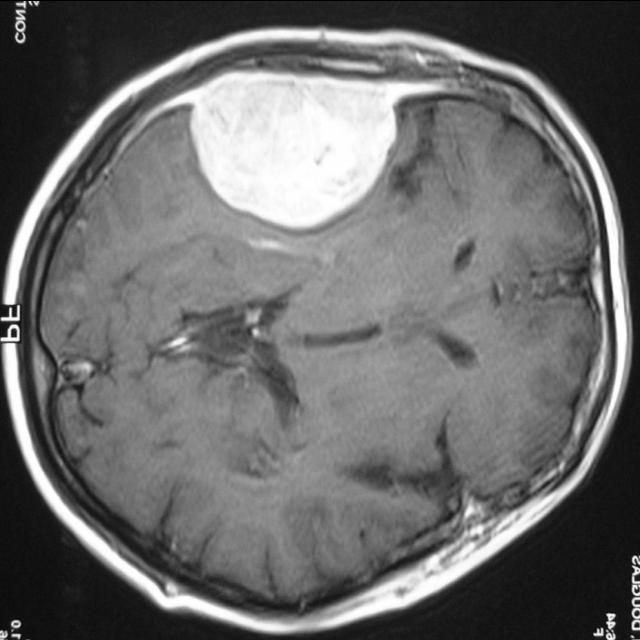tumor: (191, 49, 439, 230)
